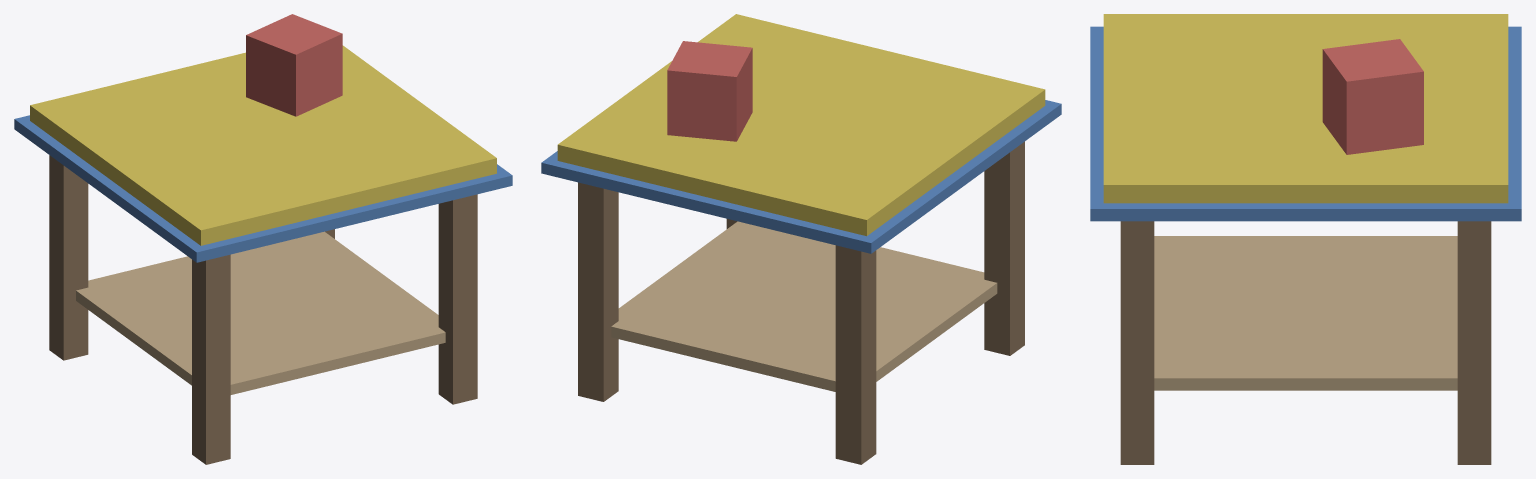
The model's file is kids_mesa.glb.
3 views of the same model, side by side, from view 1: azimuth 30°, elevation 25°; view 2: azimuth 150°, elevation 25°; view 3: azimuth 270°, elevation 25° (orthographic). The views are drawn at different scales.
Visible parts, largest first — view 1: KIDS_MESA_v01; view 2: KIDS_MESA_v01; view 3: KIDS_MESA_v01.
Part boxes in pixels (x1,y1,x2,y2): KIDS_MESA_v01: (14,14,512,464); KIDS_MESA_v01: (541,14,1061,464); KIDS_MESA_v01: (1090,14,1521,464).
Bounding box in the file's own units: 0.64 × 0.59 × 0.64.
